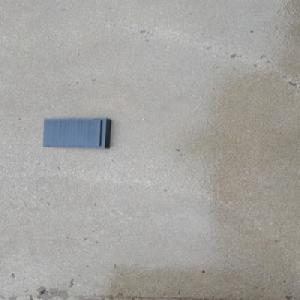PlasticPart: (41, 117, 112, 149)
